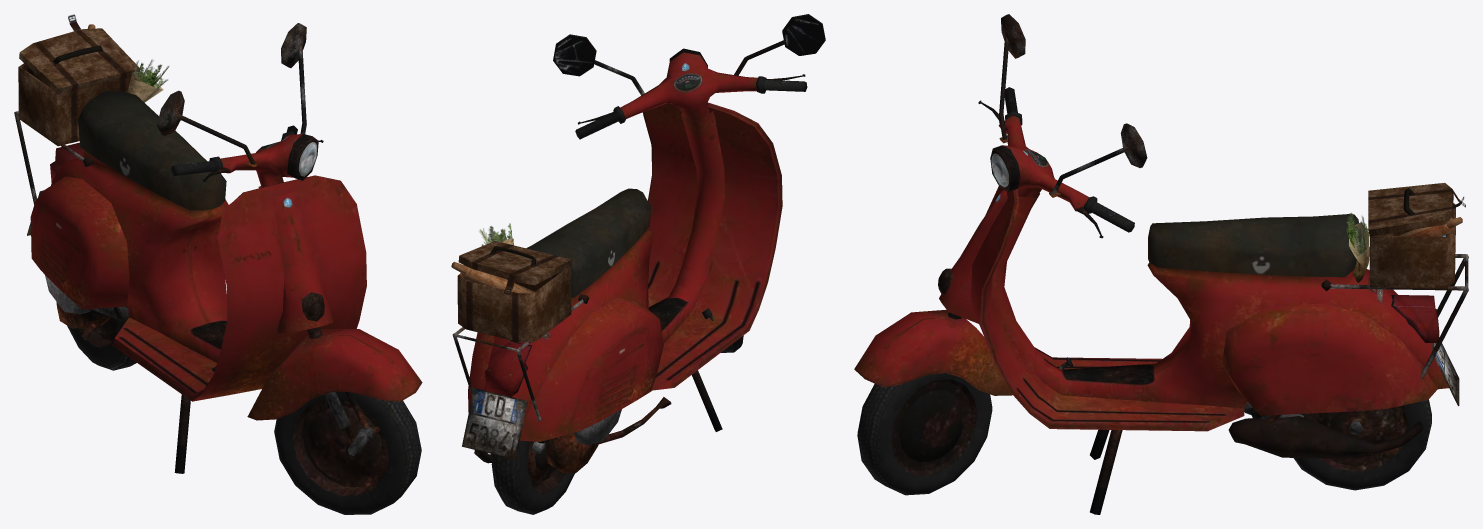
File: vespo.glb
The picture shows the model from 3 angles, left to right: view 1: azimuth 30°, elevation 25°; view 2: azimuth 150°, elevation 25°; view 3: azimuth 270°, elevation 25°; orthographic projection. The views are drawn at different scales.
Visible parts, largest first — view 1: Object_4; view 2: Object_4; view 3: Object_4.
Part boxes in pixels (x1,y1,x2,y2): Object_4: (14,14,422,514); Object_4: (451,14,825,514); Object_4: (854,14,1468,514).
Bounding box in the file's own units: 0.7534 × 1.39 × 1.85.
1 material, 1 textured.
